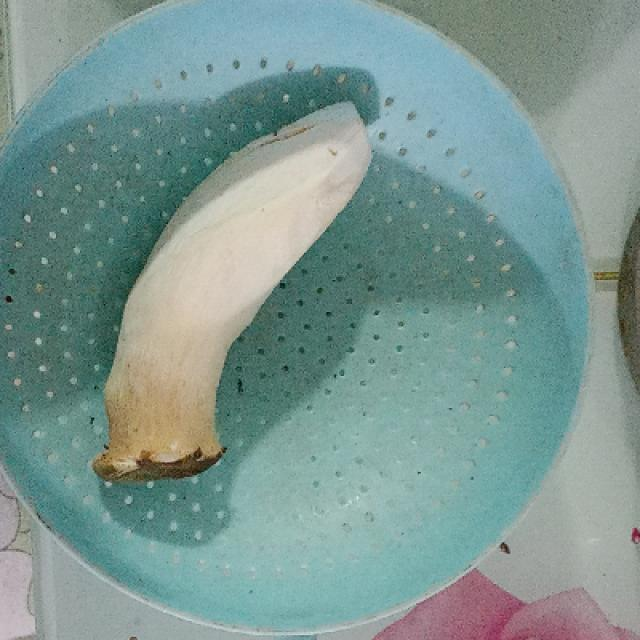Pleurotus eryngii: (92, 102, 374, 481)
